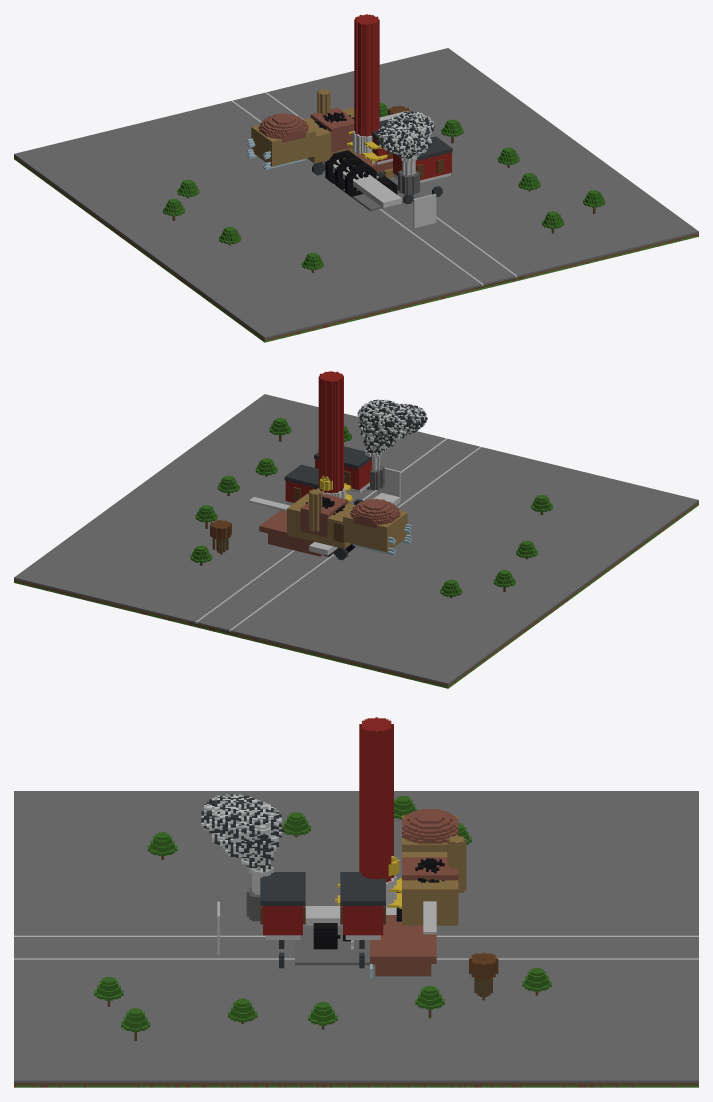
The picture shows the model from 3 angles, top to bottom: view 1: azimuth 30°, elevation 25°; view 2: azimuth 150°, elevation 25°; view 3: azimuth 270°, elevation 25°; orthographic projection. The views are drawn at different scales.
Bounding box in the file's own units: 256 × 95 × 256.
